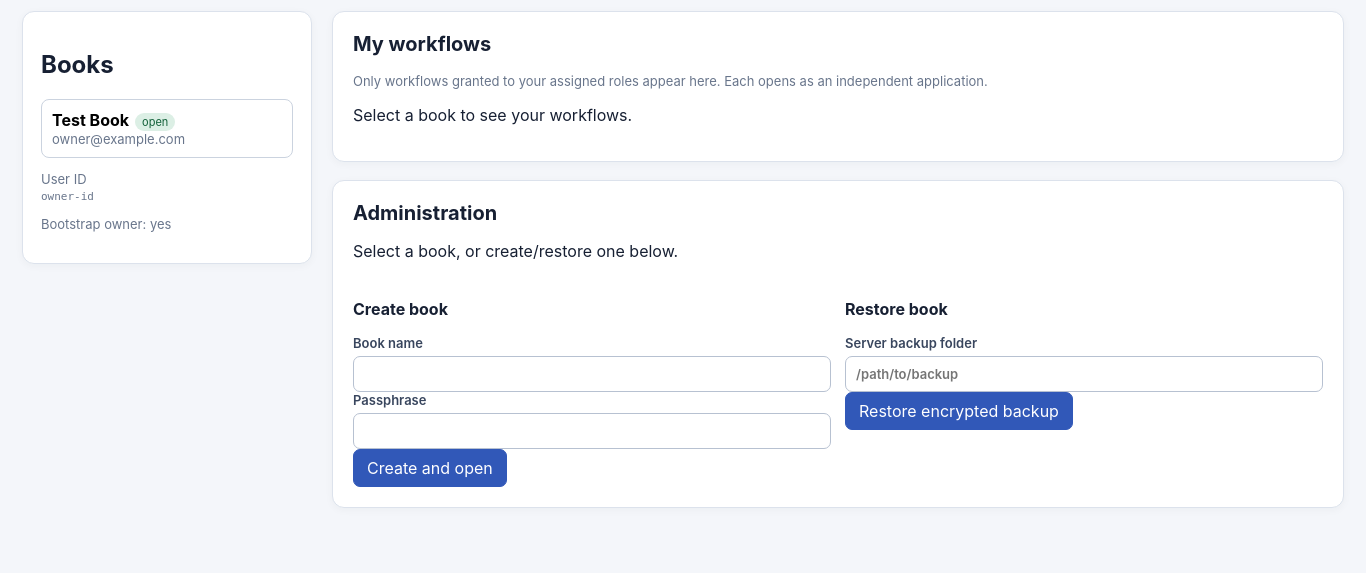
Test case: FPA application shell › lets the book owner assign a selected role to themselves
Click the button "Test Book open owner@example.com": (167, 128) x1=41 y1=99 x2=293 y2=158
(page scrolled)
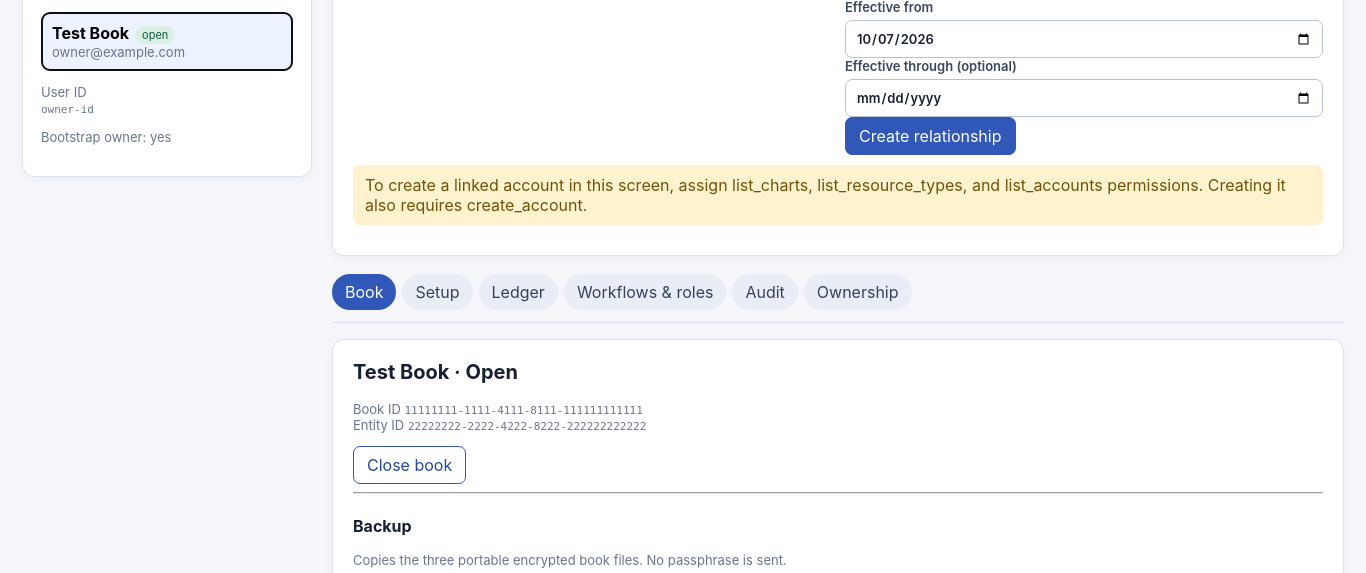
Click the button "Workflows & roles": (645, 292) x1=564 y1=274 x2=726 y2=310
(page scrolled)
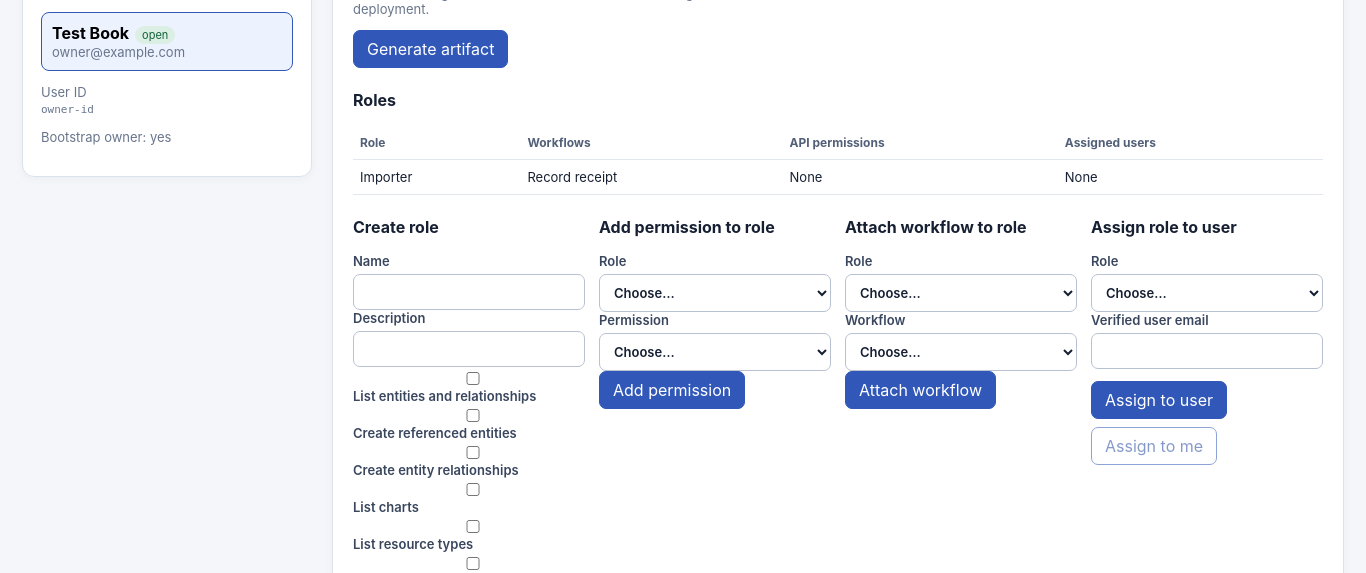
Select "Importer" in the dropdown labelled "Role" below "Assign role to user": (1207, 293) x1=1091 y1=274 x2=1323 y2=312
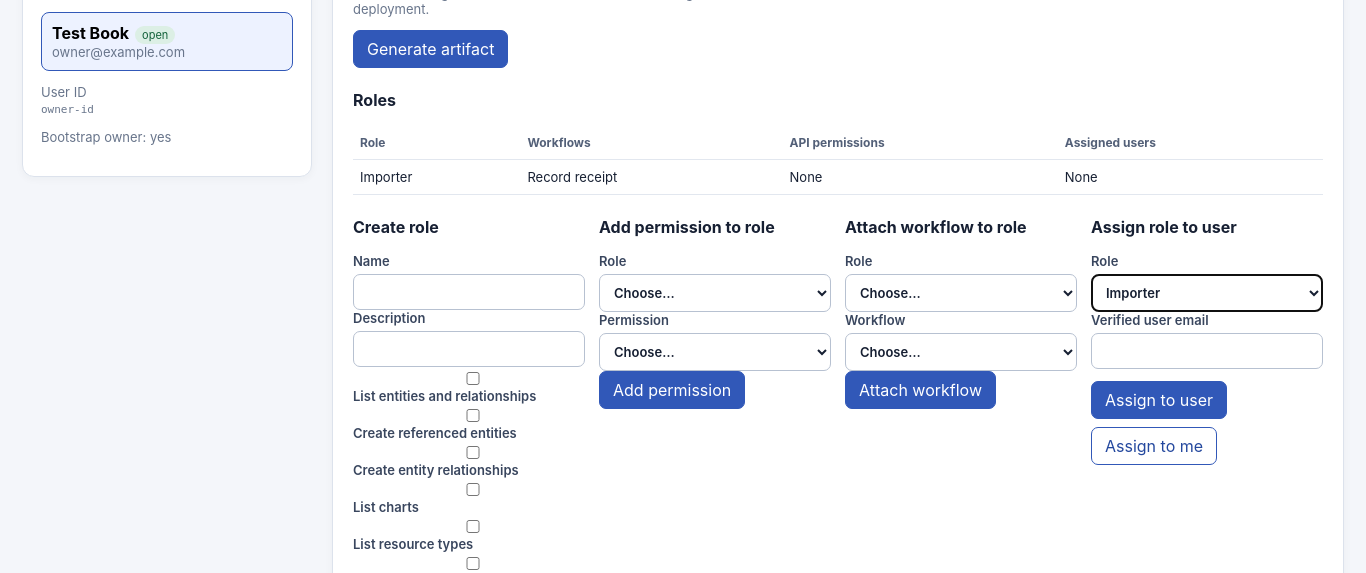
Click the button "Assign to me": (1154, 446) x1=1091 y1=427 x2=1217 y2=465
(page scrolled)
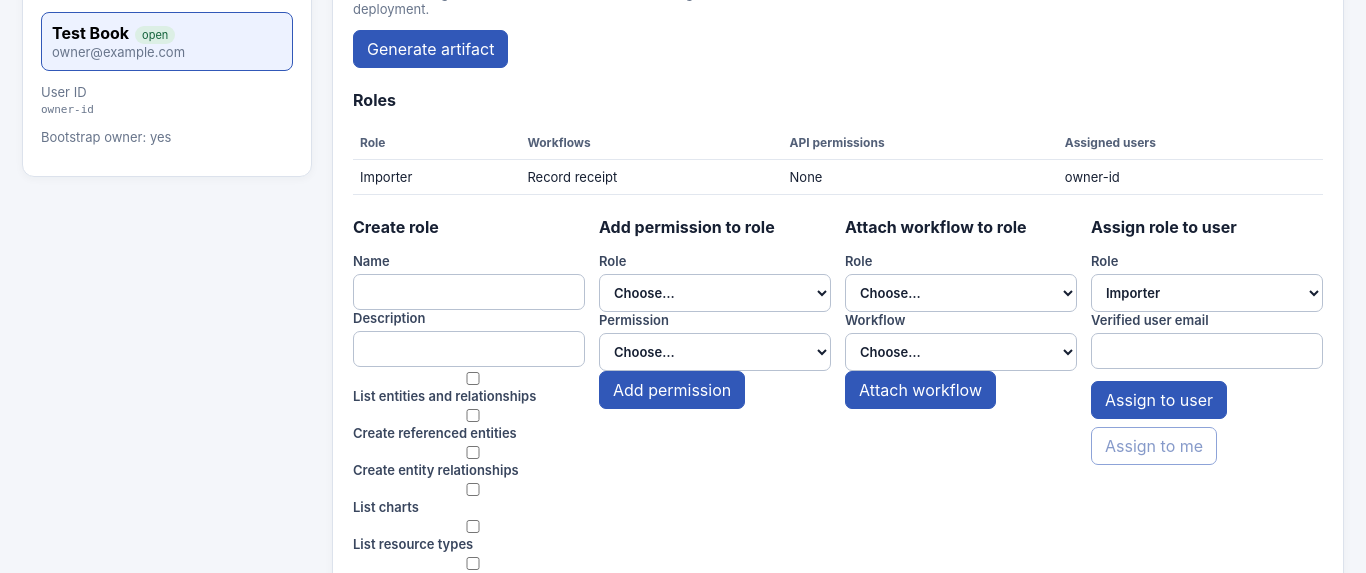
Expected: the button "Assign to me" is disabled, x1=1091 y1=427 x2=1217 y2=465
